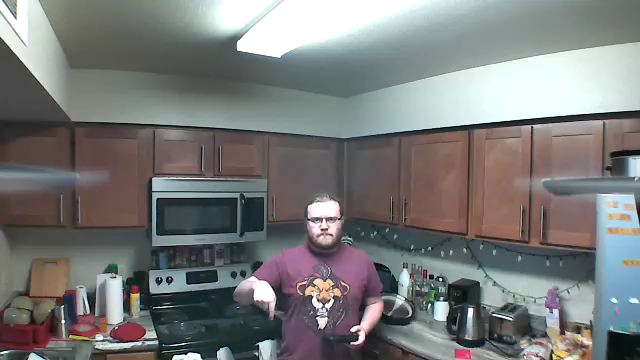down: (249, 273, 281, 326)
